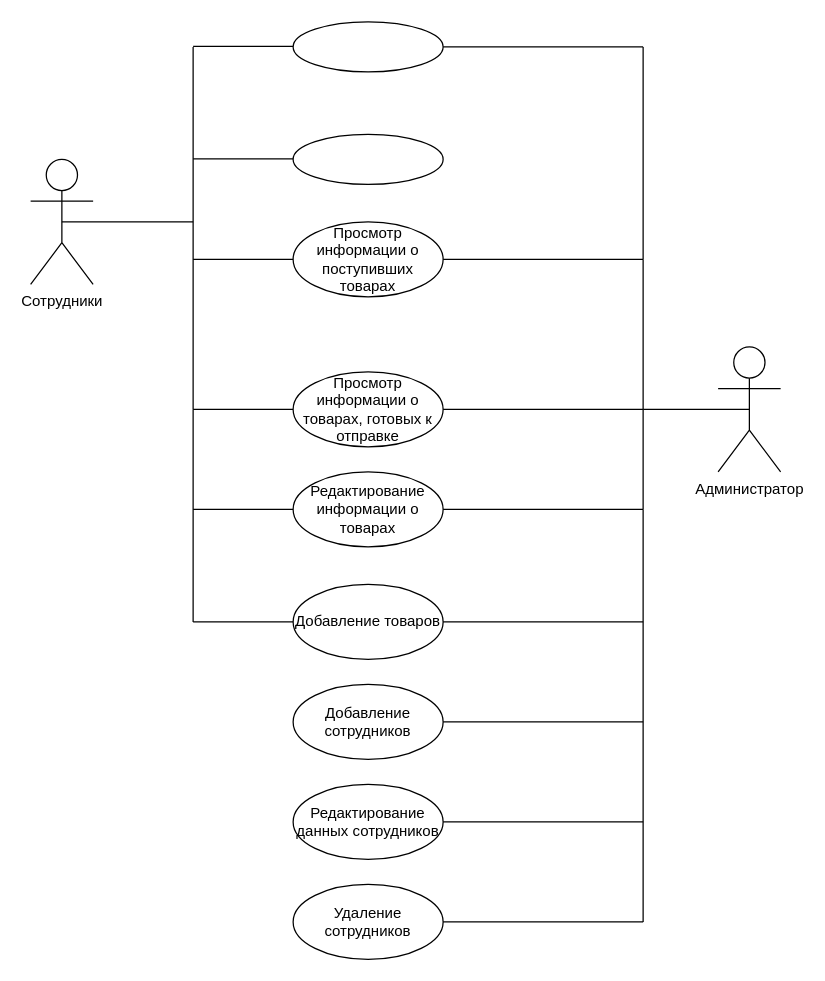
This 825x981 diagram has some shape labels left out. The shapes that lost their labels are listed below. From the top down, each one's centre as x and y in pixels, then its label:
point (367, 46): Авторизация
point (367, 158): Регистрация
